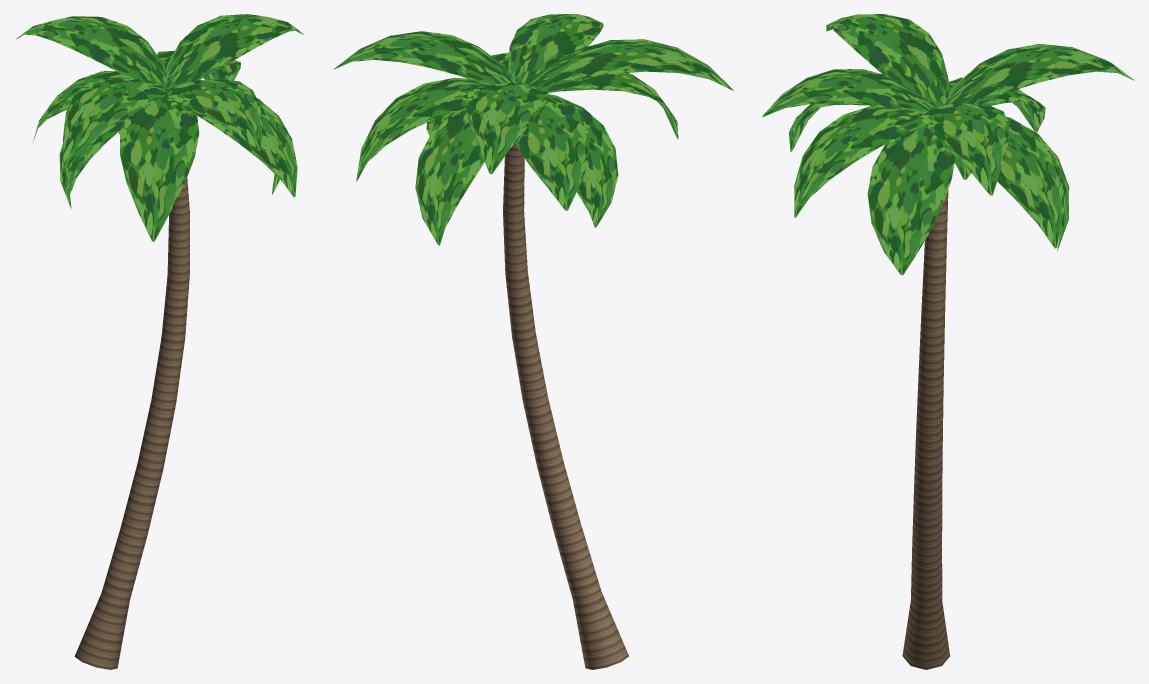
File: tree_coconut_palm.glb
3 renders of one model, left to right at view 1: azimuth 30°, elevation 25°; view 2: azimuth 150°, elevation 25°; view 3: azimuth 270°, elevation 25°, orthographic. The views are drawn at different scales.
Parts seen in each view (by area): view 1: canopy, trunk; view 2: canopy, trunk; view 3: canopy, trunk.
Boxes of the visible parts, x1,y1,x2,y2 form: canopy: (15, 14, 303, 241); trunk: (74, 177, 189, 669); canopy: (333, 14, 733, 245); trunk: (503, 143, 628, 669); canopy: (762, 14, 1134, 274); trunk: (902, 190, 950, 669).
Size of the model in its own units: 5.58 by 10.02 by 5.34.
3 materials, 2 textured.
